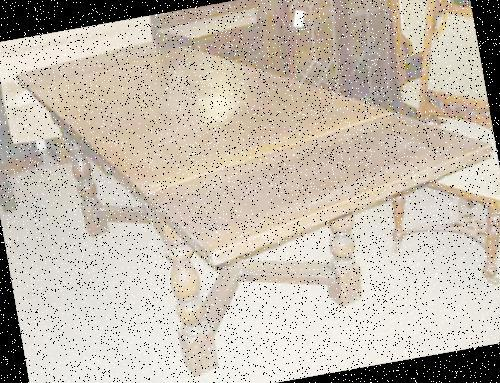Mesa: (13, 0, 499, 382)
Silla: (342, 0, 499, 284)
